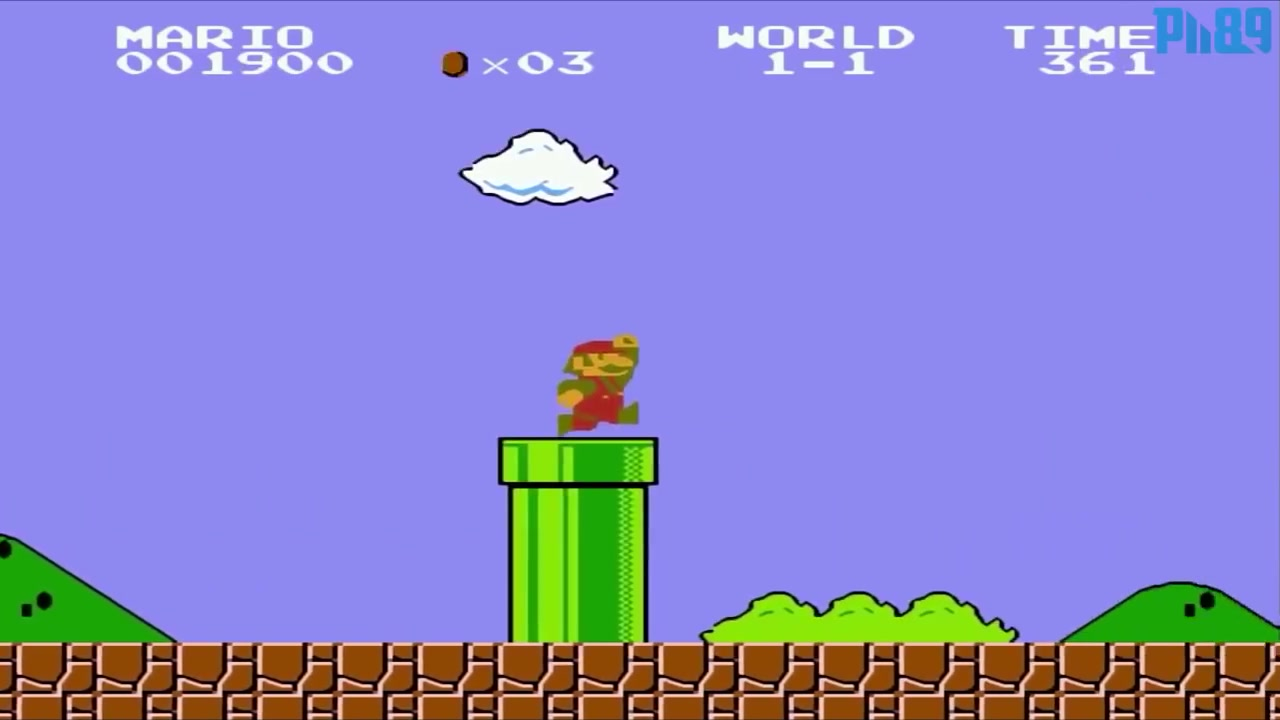mario: (551, 329, 652, 435)
